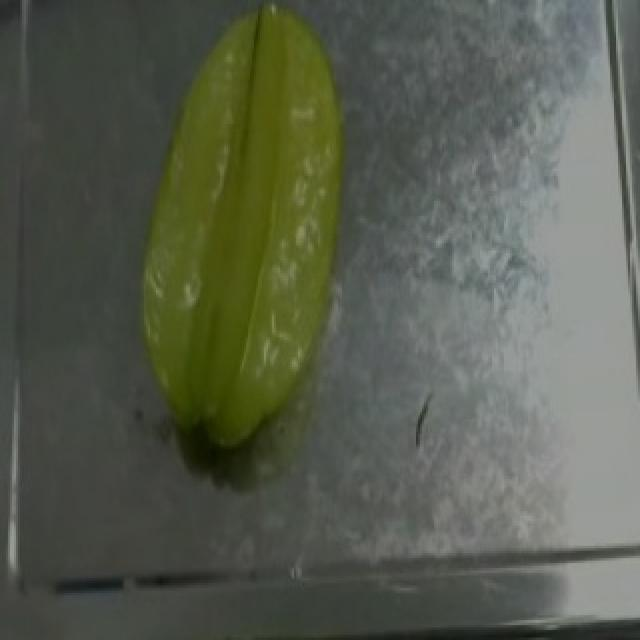fruit: (134, 2, 366, 390)
